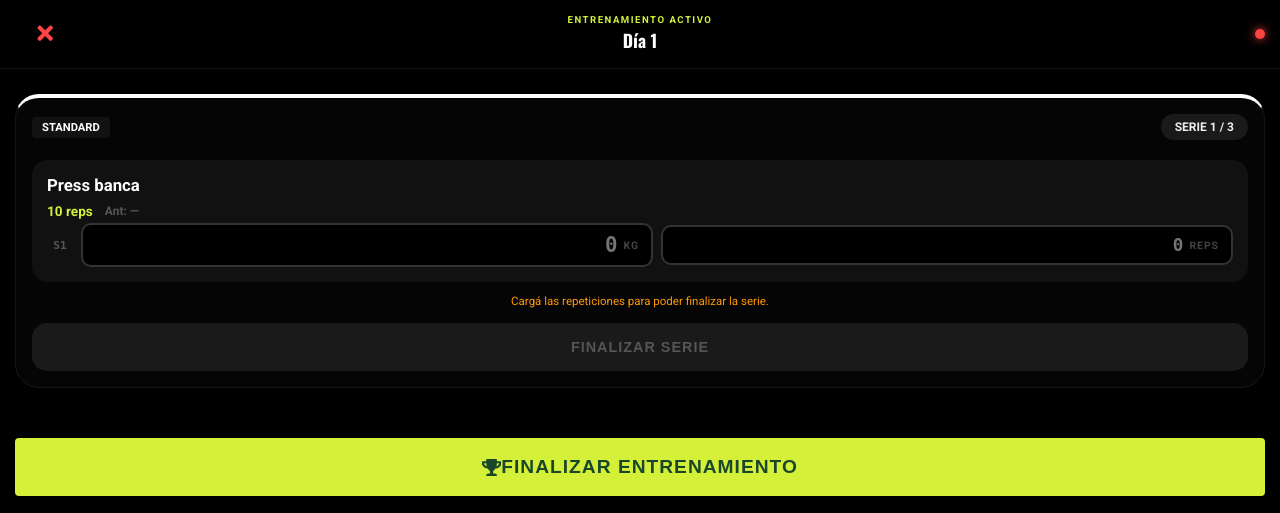
Test: WorkoutView — NUEVO: pesos con coma o decimales › limpia lo que no sea un peso: letras y signos se descartan, un solo separador, hasta 2 decimales
The image size is (1280, 513).
Type "4a2,5,7-" into the field named "Peso serie 1" at (356, 245), box [95,233,618,257]
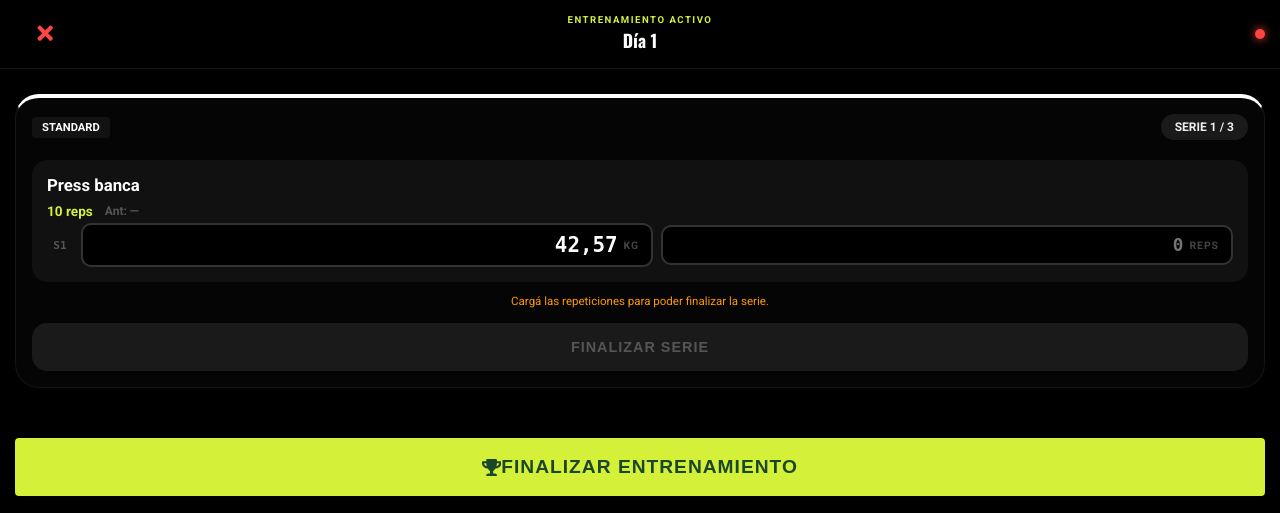
Check: the field named "Peso serie 1" holds "42,57"
Replace the text in the field named "Peso serie 1" with "10,123" at (356, 245), box [95,233,618,257]
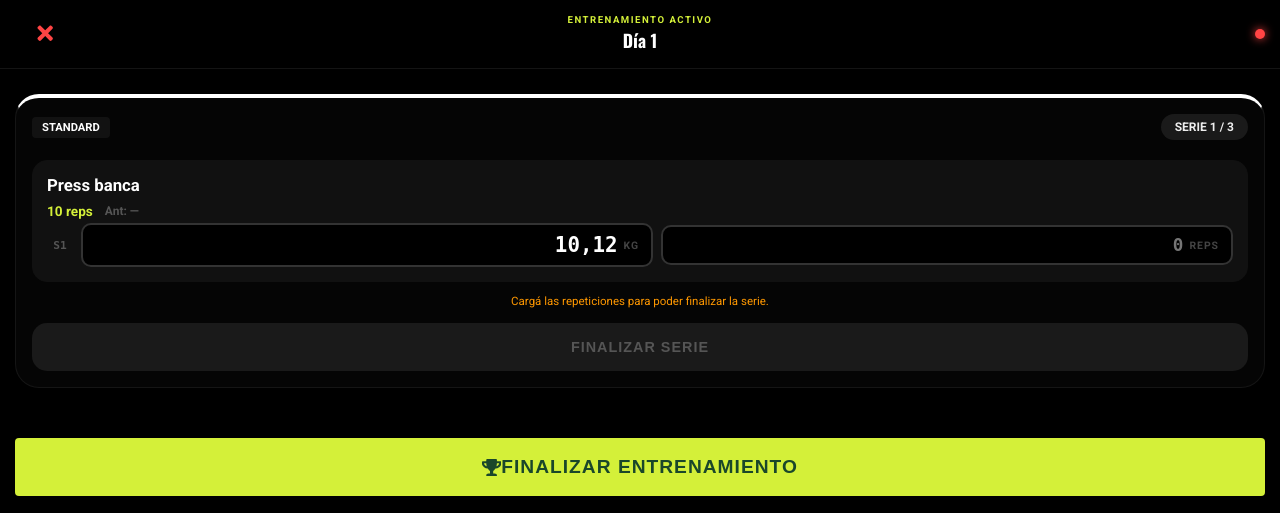
Check: the field named "Peso serie 1" holds "10,12", box [95,233,618,257]
